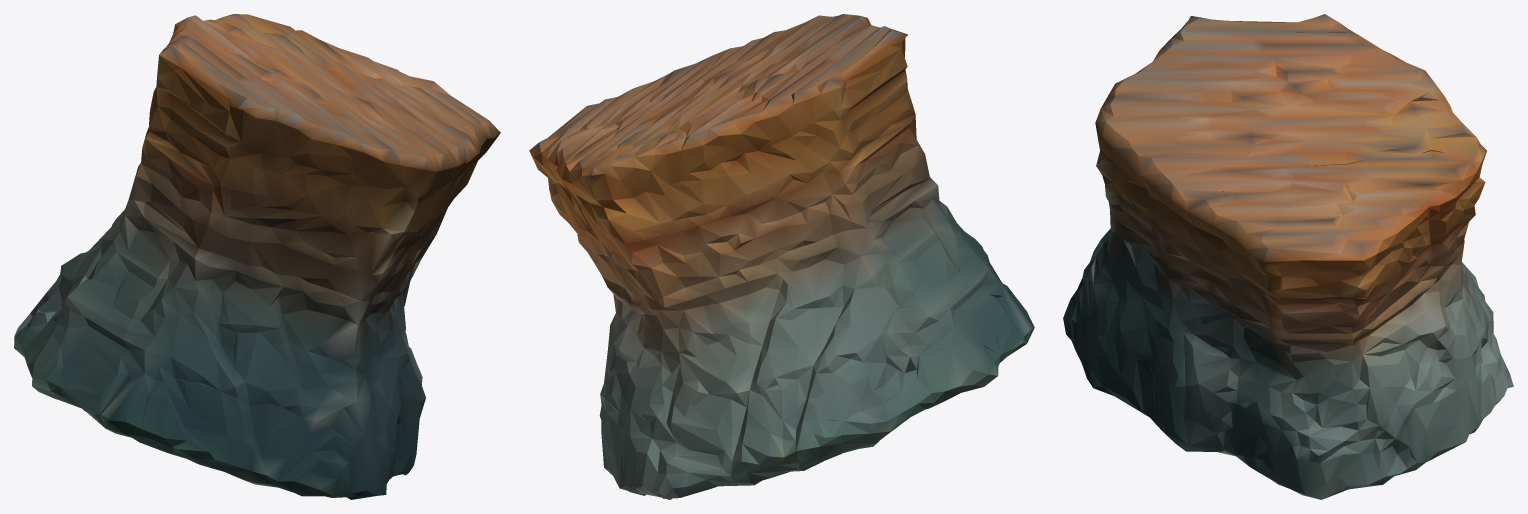
Rendered from ai_mesa_clean.glb.
The picture shows the model from 3 angles, left to right: view 1: azimuth 30°, elevation 25°; view 2: azimuth 150°, elevation 25°; view 3: azimuth 270°, elevation 25°; orthographic projection. The views are drawn at different scales.
Visible parts, largest first — view 1: AIMesa; view 2: AIMesa; view 3: AIMesa.
Boxes of the visible parts, x1,y1,x2,y2 form: AIMesa: [14, 14, 500, 499]; AIMesa: [529, 14, 1034, 499]; AIMesa: [1063, 14, 1513, 499].
Bounding box in the file's own units: 40 × 36.79 × 38.42.
